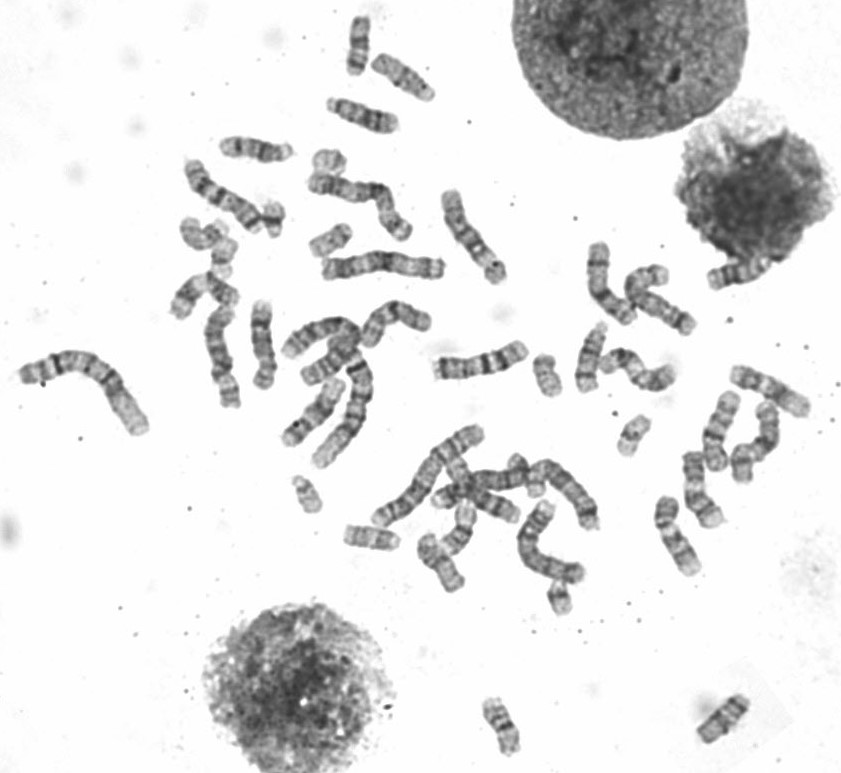chromosomes: (14, 339, 156, 444), (369, 417, 493, 535), (429, 457, 609, 536), (306, 339, 378, 474), (299, 169, 417, 249), (435, 185, 517, 292), (180, 151, 266, 238), (516, 497, 593, 587), (619, 262, 701, 342), (278, 313, 365, 387), (428, 332, 536, 389), (277, 371, 349, 455), (445, 455, 525, 528), (728, 359, 816, 424), (316, 246, 451, 288), (649, 490, 709, 584), (730, 398, 787, 493), (584, 239, 640, 330), (201, 306, 247, 416), (697, 389, 751, 476), (599, 343, 680, 400), (358, 297, 437, 353), (319, 90, 406, 140), (410, 528, 471, 598), (679, 449, 730, 532), (370, 48, 445, 104), (170, 268, 242, 324), (694, 690, 753, 752), (572, 314, 616, 397), (247, 293, 282, 397), (473, 695, 528, 758), (434, 491, 480, 562), (213, 132, 305, 167), (705, 252, 777, 296), (170, 208, 234, 254), (341, 9, 381, 79), (304, 213, 360, 261), (333, 519, 402, 555), (612, 411, 655, 464), (285, 470, 328, 522), (507, 451, 549, 501), (204, 230, 243, 283), (530, 349, 564, 403), (307, 145, 352, 184), (263, 193, 292, 248), (541, 578, 579, 618)
